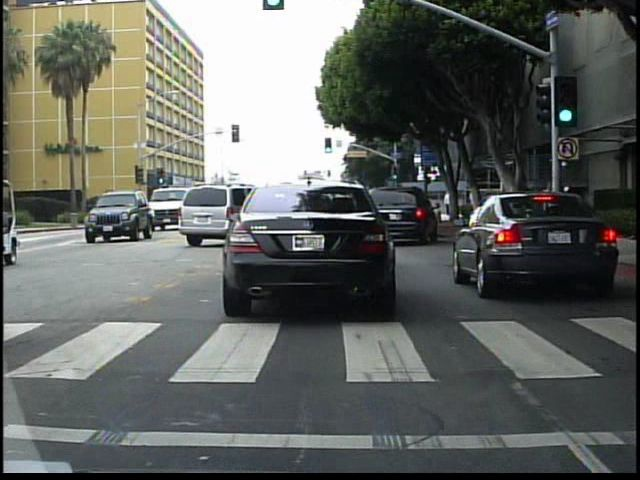person: (549, 175, 568, 233), (441, 186, 455, 218)
